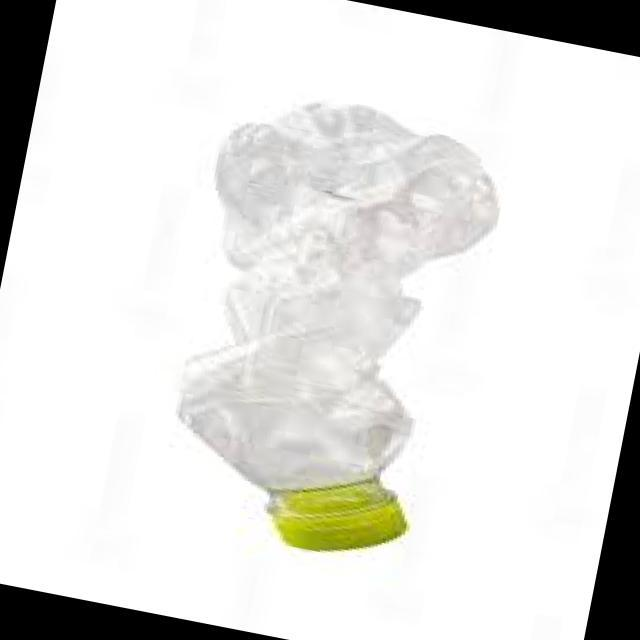defected: (130, 81, 524, 571)
